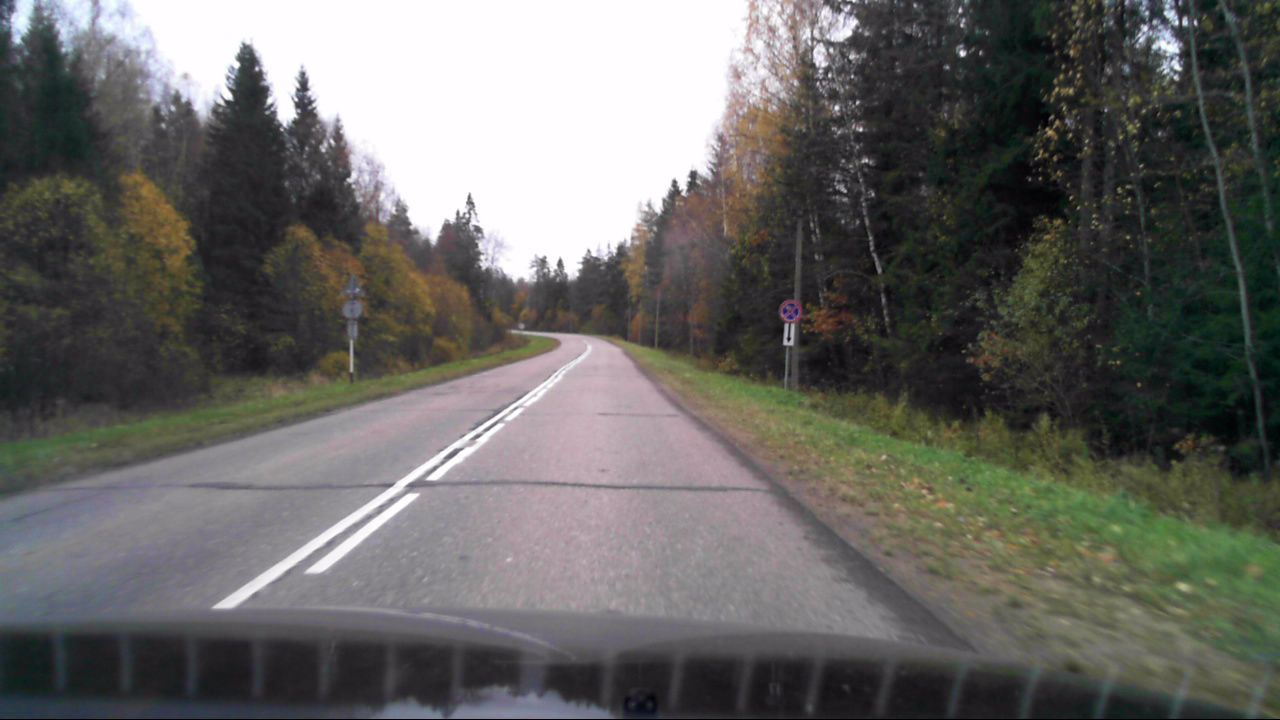No Parking: (779, 300, 801, 322)
